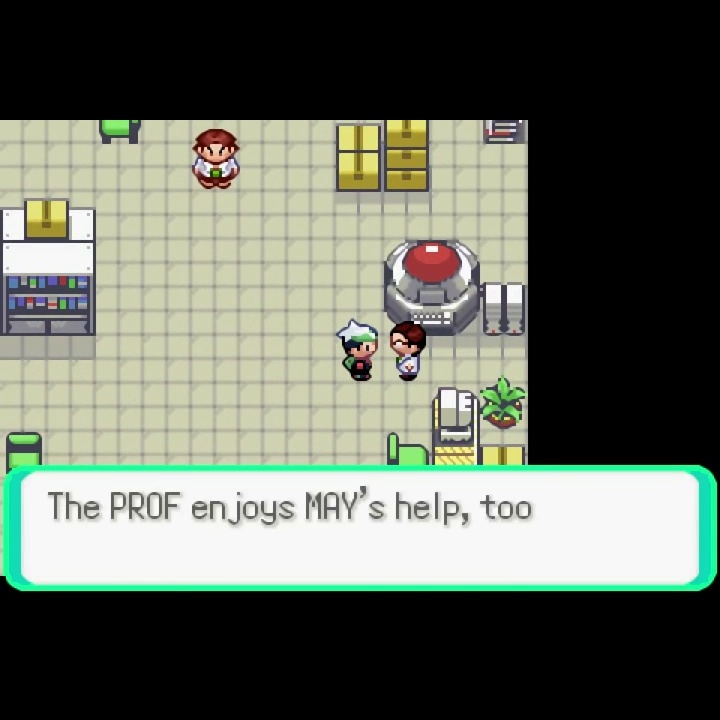npc: (189, 127, 244, 192), (334, 317, 382, 384), (388, 317, 430, 384)
